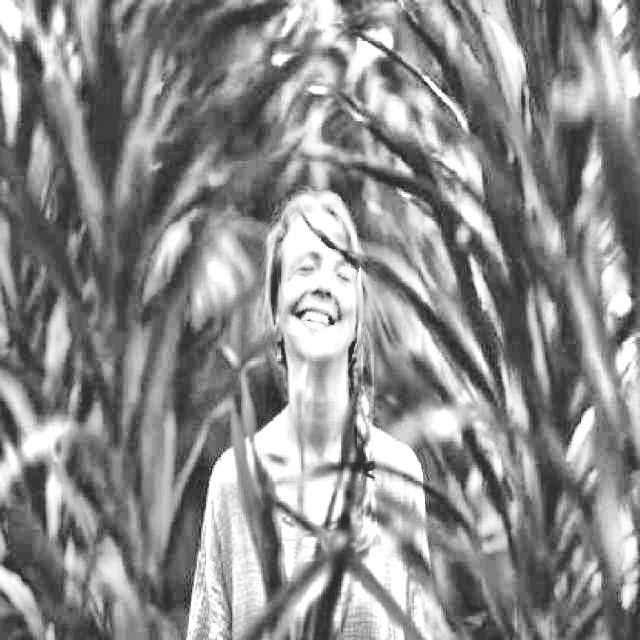happy: (283, 244, 357, 344)
